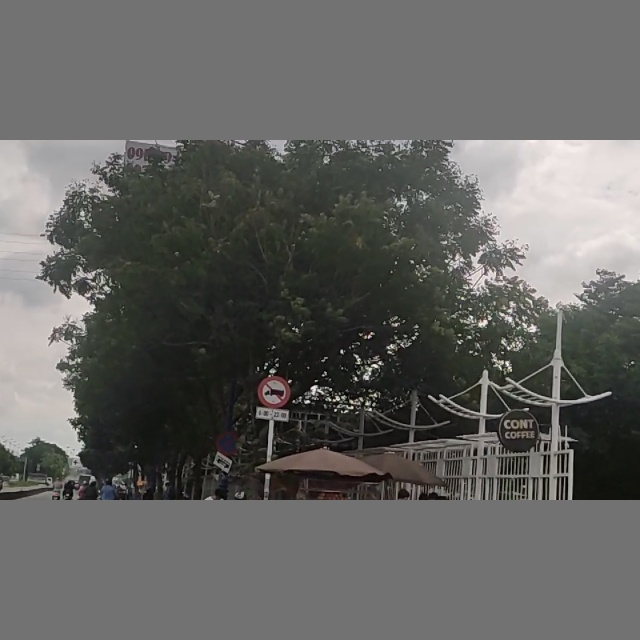B.8a: (259, 377, 292, 421)
